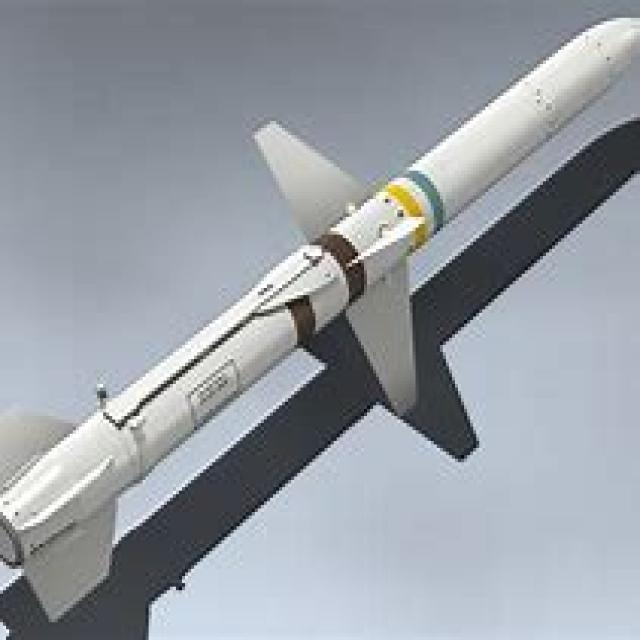missile: (0, 12, 636, 618)
